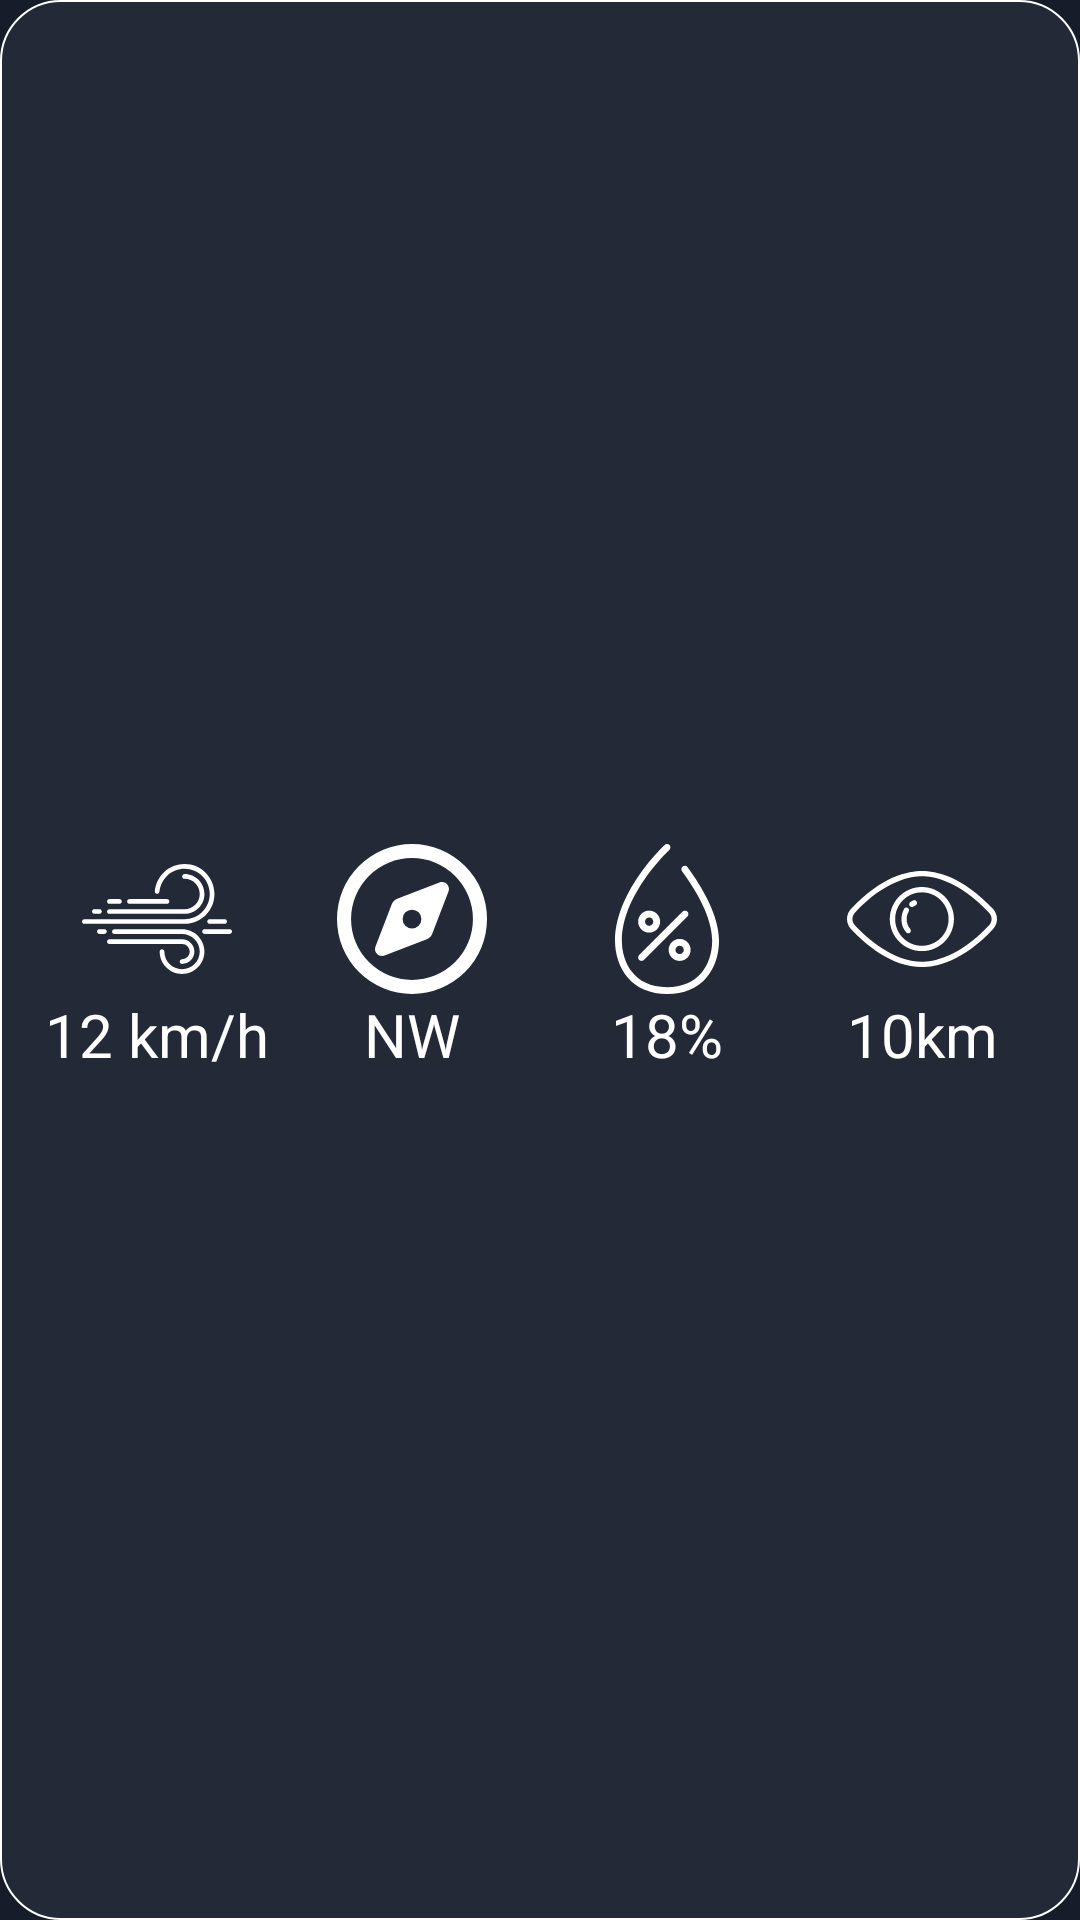

Point at icon controls on the screen. Image size 1080 x 1920, points as (x=x, y=y).
compass: (x=412, y=919)
humidity: (x=667, y=919)
wind: (x=157, y=919)
